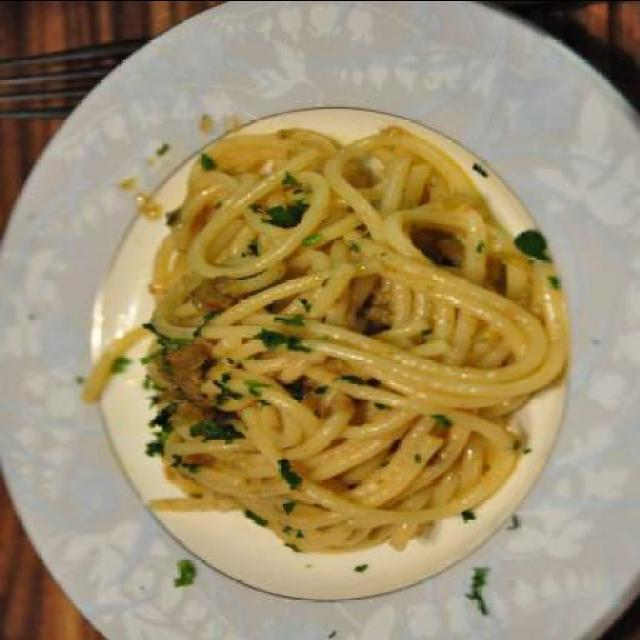Oil pasta: (132, 86, 570, 523)
